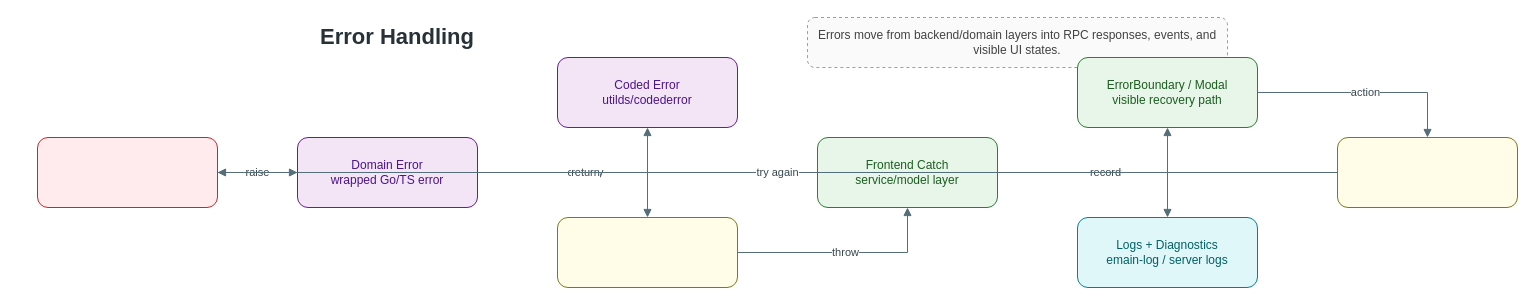
The diagram is 1535 pixels wide and 305 high, and some of its shapes have lost their labels. Each missing label, with the centre of its shape:
"Error Source file, process, DB, remote, AI" belongs at point (127, 172).
"Retry / Refresh user action or reconnect" belongs at point (1427, 172).
"RPC Error Response reqid + error string/code" belongs at point (647, 252).
